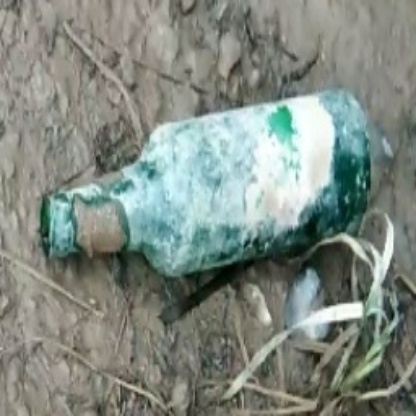bottle: (41, 87, 372, 261)
